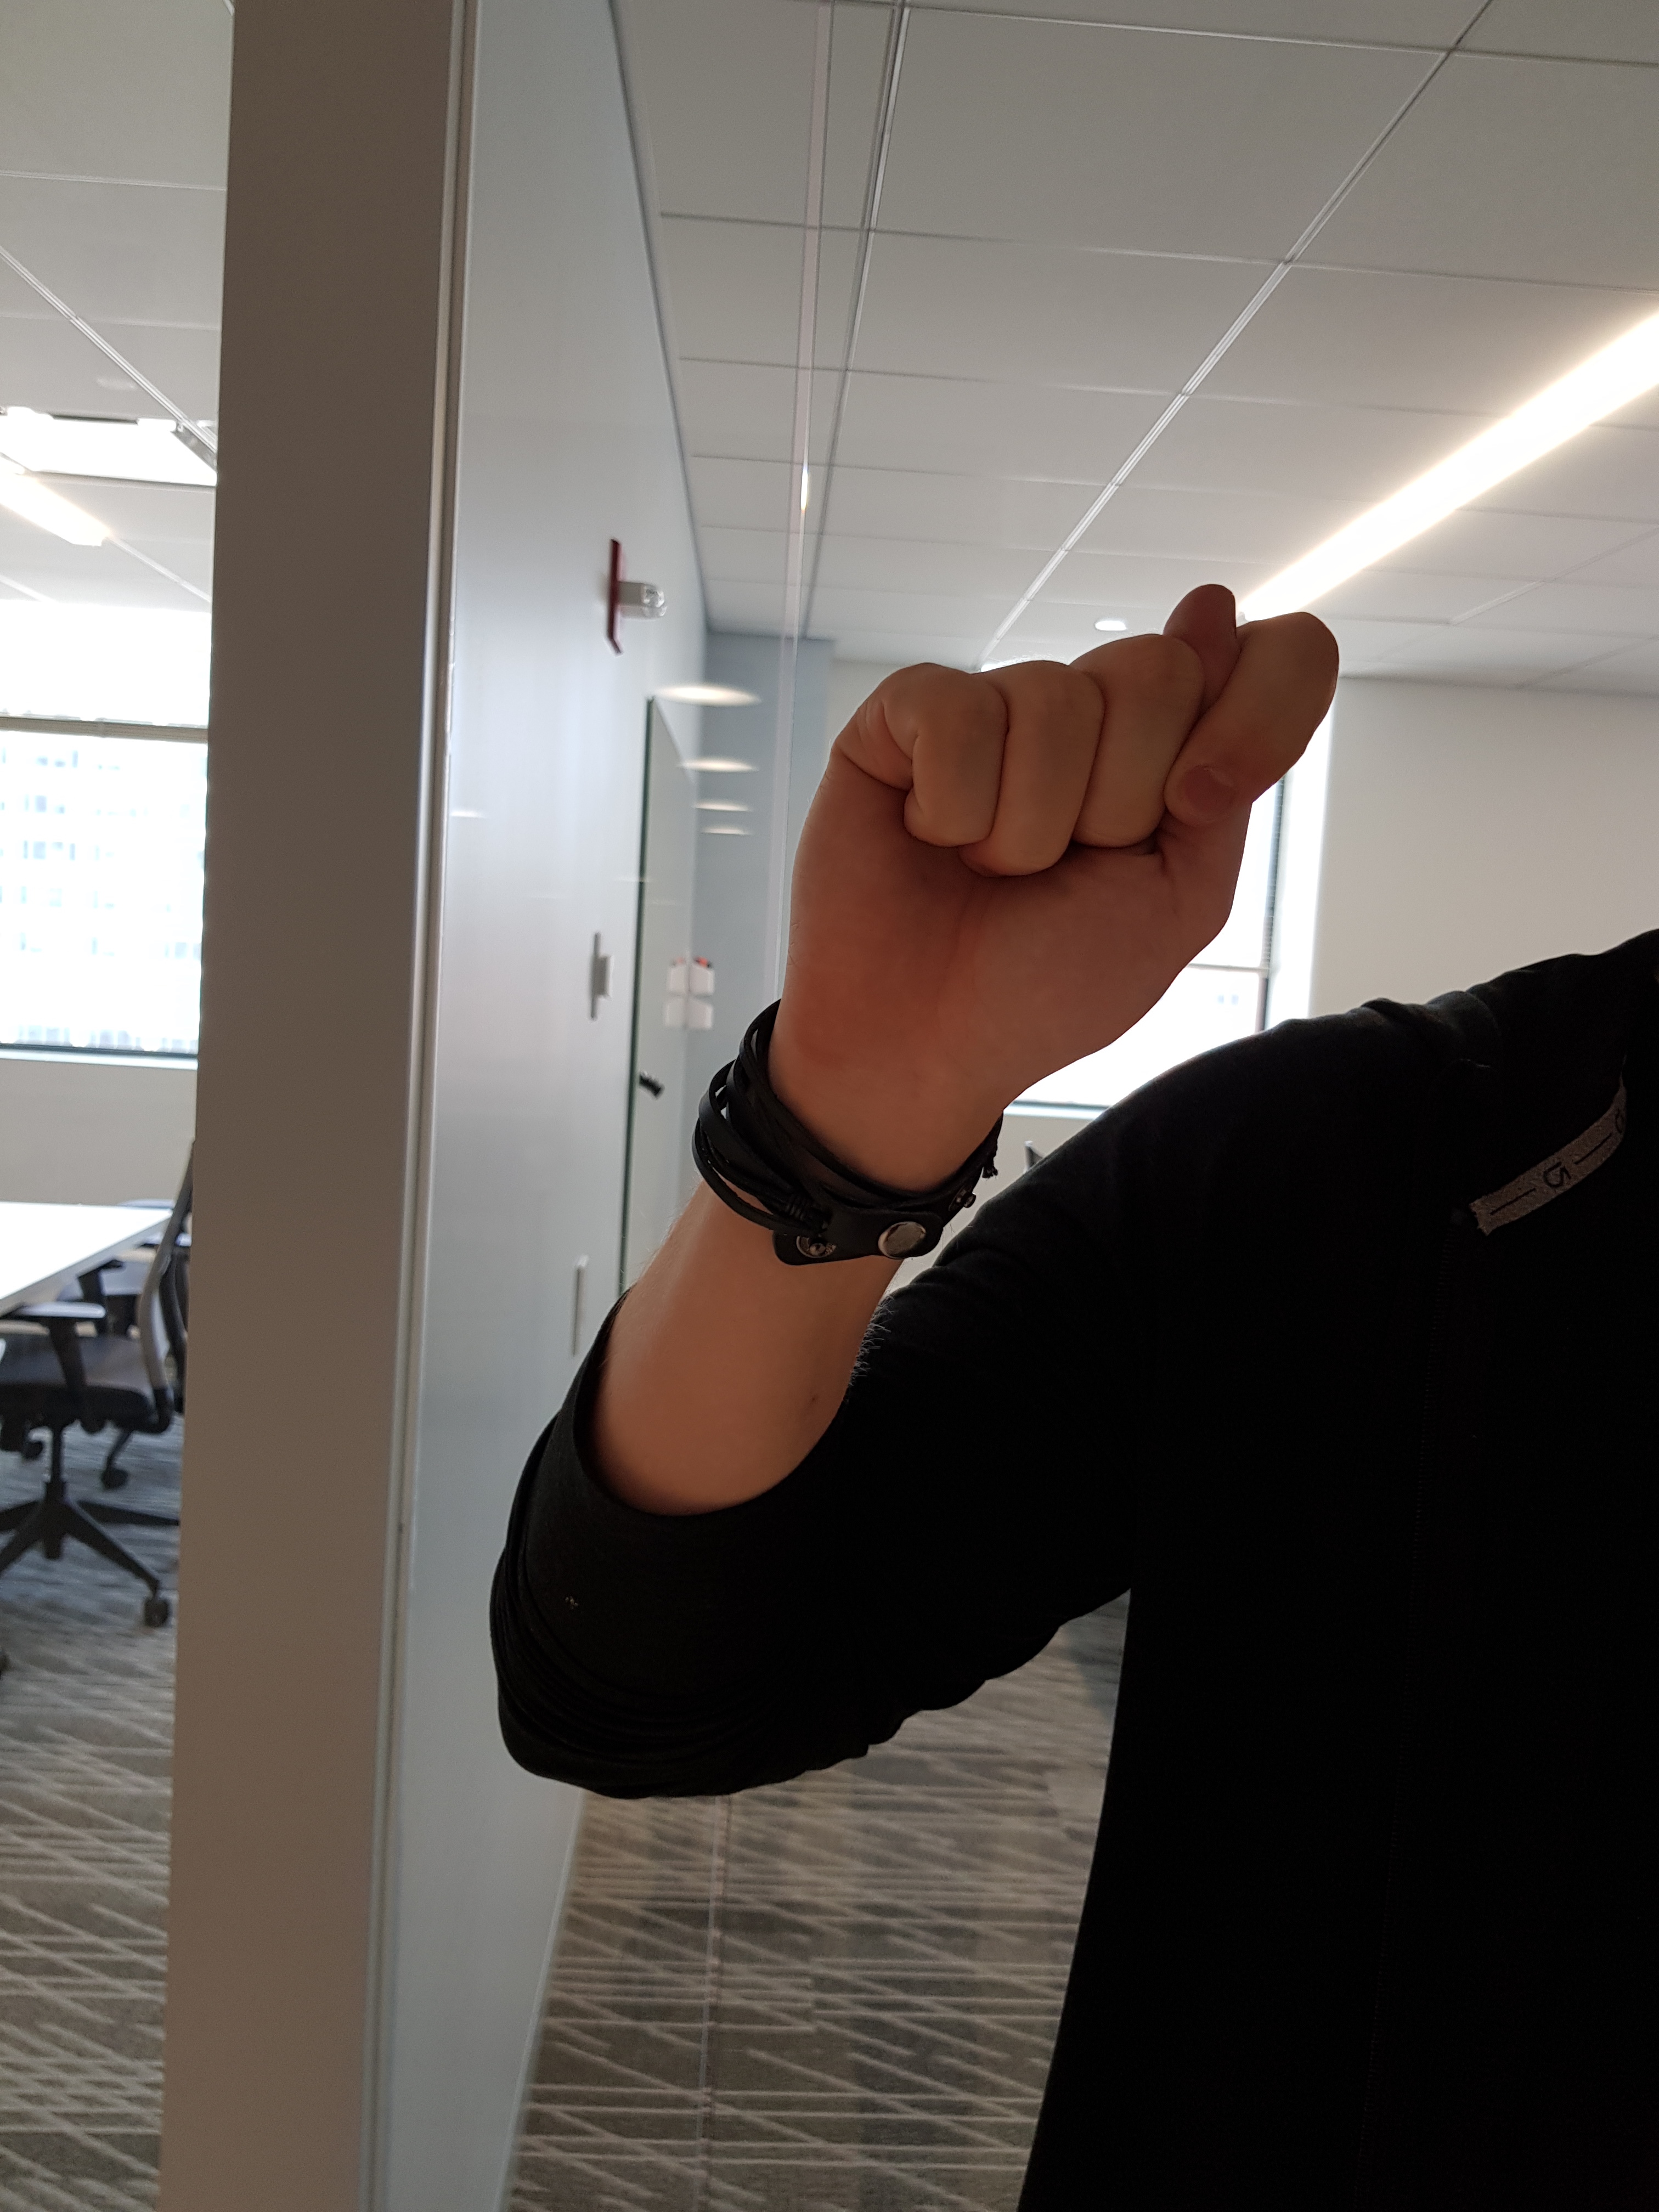t: (748, 550, 1354, 1122)
